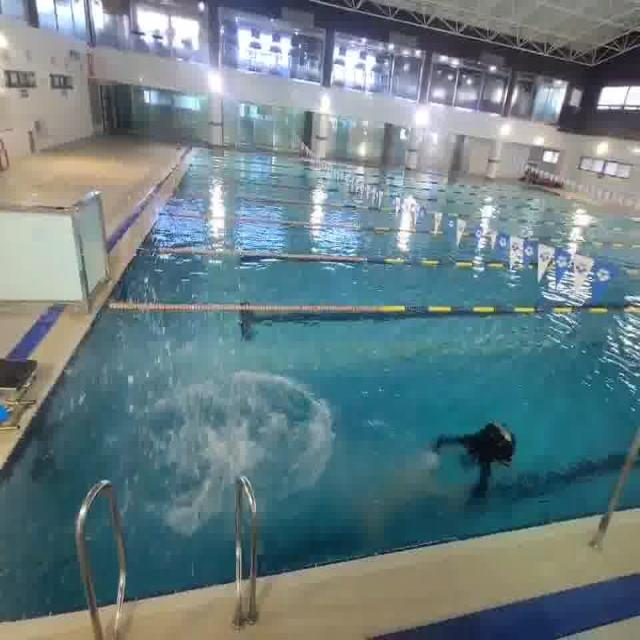Drowning: (413, 416, 538, 516)
